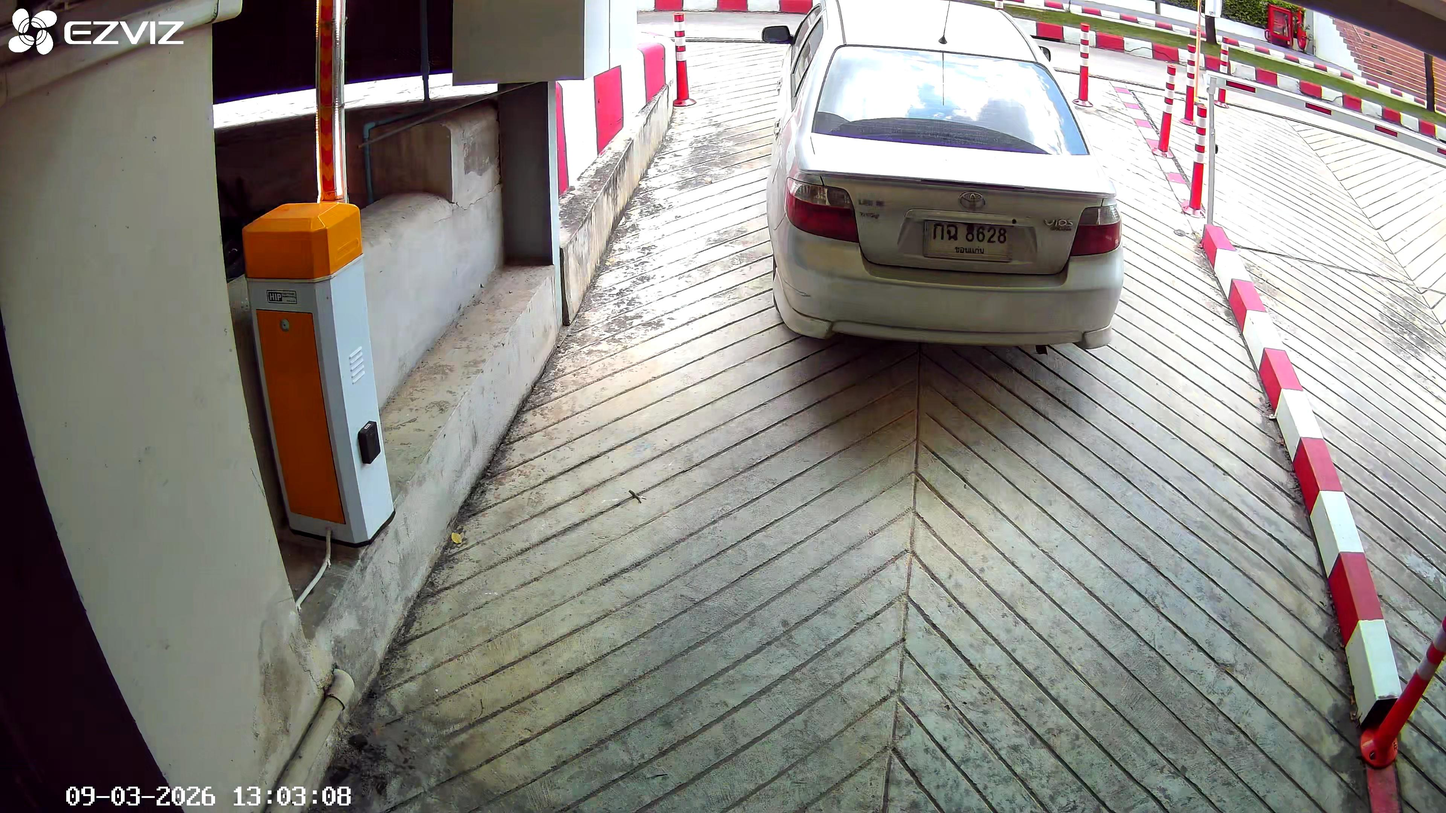car: (769, 5, 1125, 357)
license-plate: (924, 216, 1034, 266)
